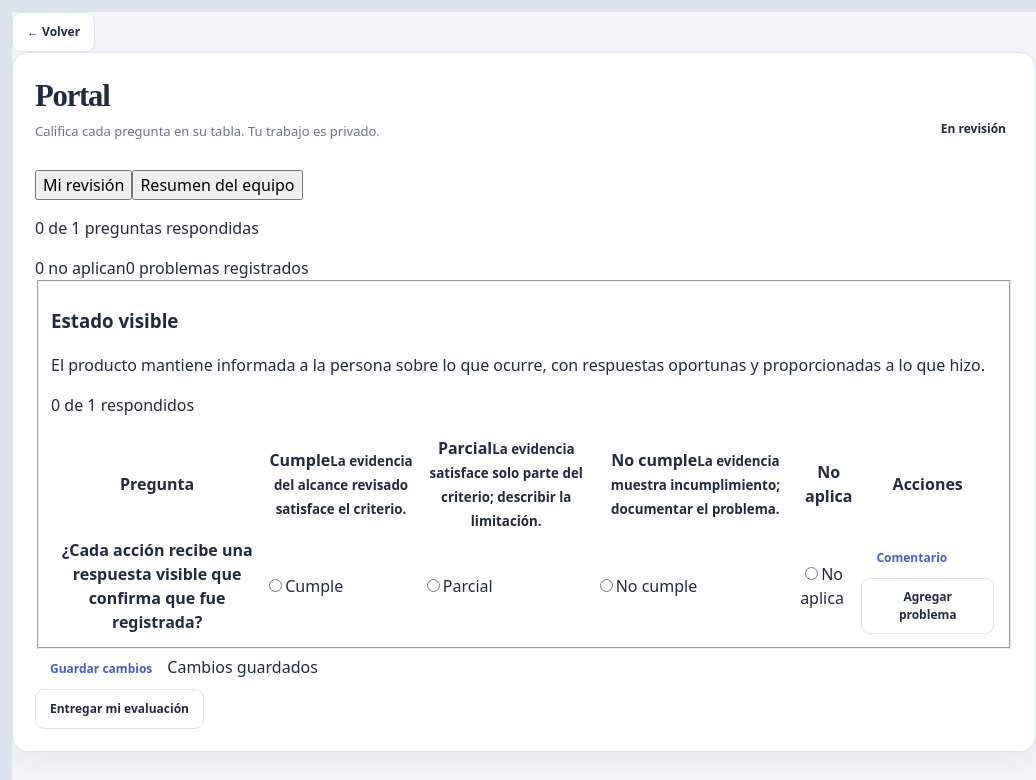
Scenario: flujo individual › admite múltiples problemas por criterio sin confundir ausencia con NA
Click the button "Agregar problema": (928, 606) [861, 578, 994, 634]
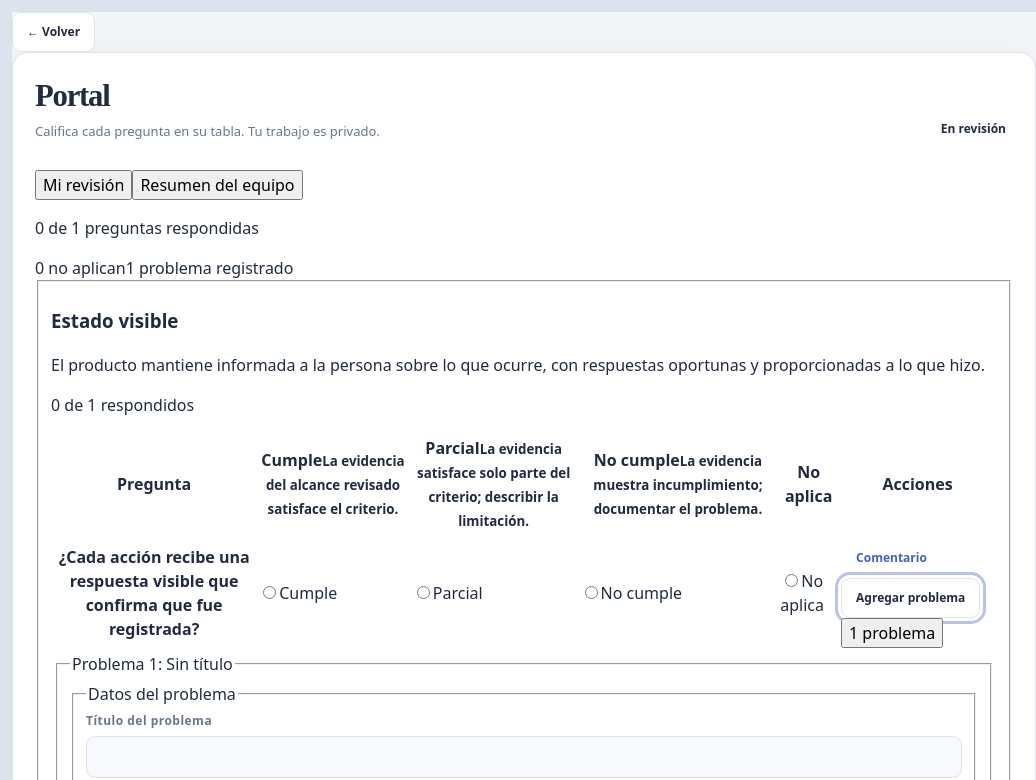
Click the button "Agregar problema": (911, 598) [841, 578, 980, 618]
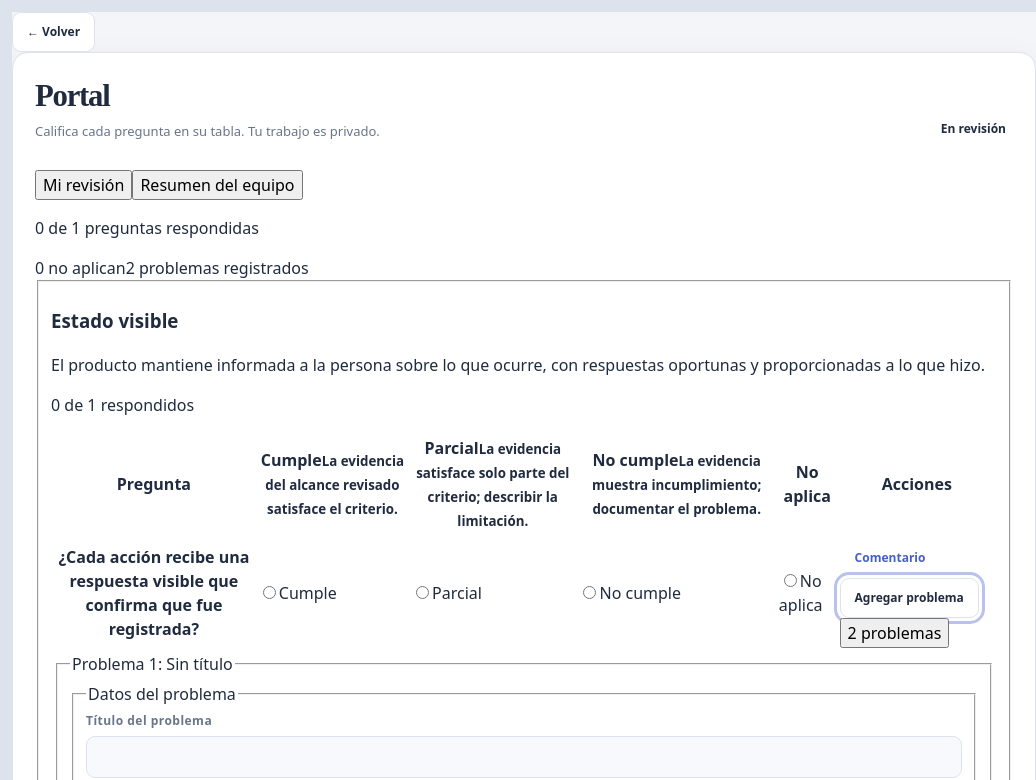
Result: the button "2 problemas" is shown at [840, 618, 949, 648]
